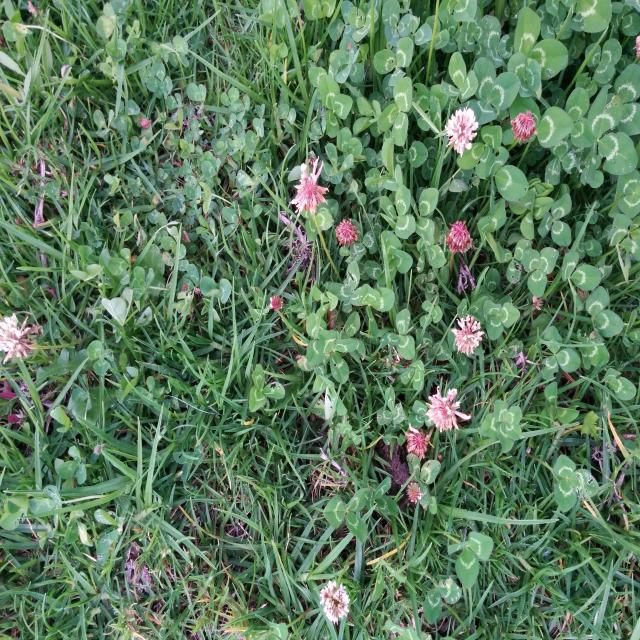Four Leaf Clover: (481, 399, 523, 453)
